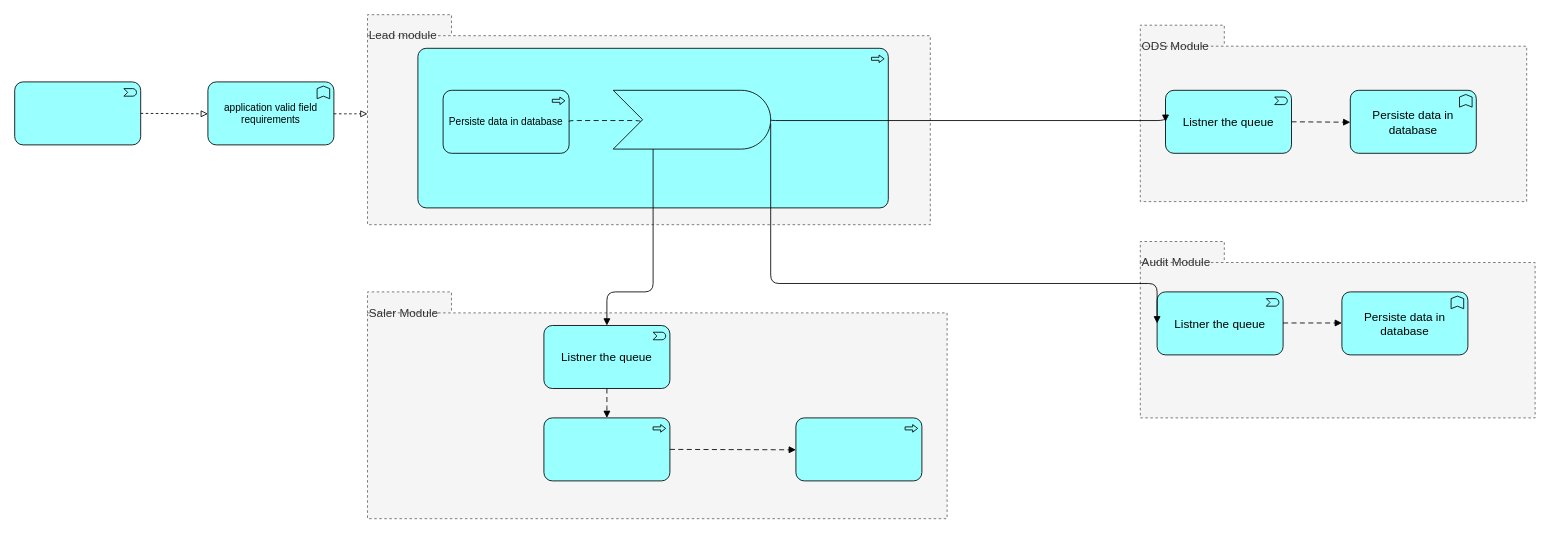
This 1550x533 diagram has some shape labels left out. The centre of each missing label's shape, as x and y in pixels:
"Customer register contact details" goes at point (77, 113).
"notify sale manager group" goes at point (606, 449).
"Post a massagem in the Queue" goes at point (691, 119).
"Set up a saler for contact the lead" goes at point (858, 449).
